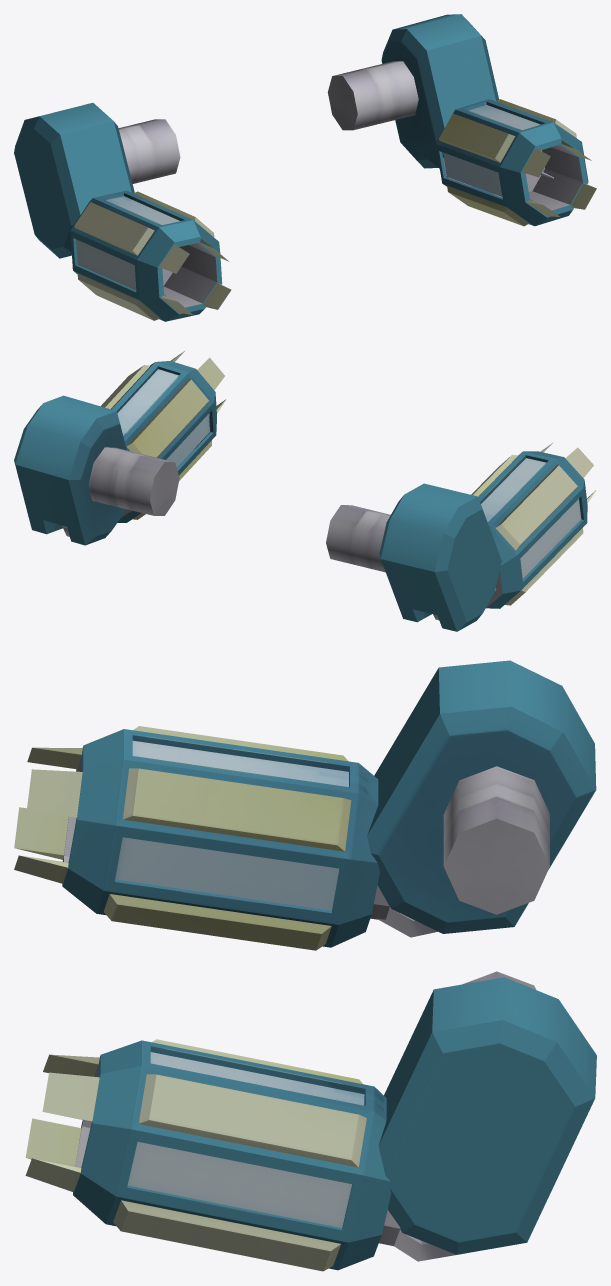
File: player_arm_attack7.obj
3 views of the same model, one above another, from view 1: azimuth 30°, elevation 25°; view 2: azimuth 150°, elevation 25°; view 3: azimuth 270°, elevation 25° (orthographic). The views are drawn at different scales.
Parts seen in each view (by area): view 1: Object009, Object010, Object007, Object008, Object005, Object006; view 2: Object007, Object009, Object008, Object010, Object005, Object006; view 3: Object009, Object010, Object008, Object007, Object006.
Part boxes in pixels (x1,y1,x2,y2): Object009: (70, 190, 231, 321); Object010: (435, 99, 596, 226); Object007: (14, 102, 134, 258); Object008: (381, 14, 498, 168); Object005: (327, 61, 418, 130); Object006: (118, 119, 180, 183); Object007: (379, 483, 501, 631); Object009: (433, 442, 596, 620); Object008: (14, 395, 126, 545); Object010: (62, 350, 226, 536); Object005: (88, 447, 179, 515); Object006: (326, 505, 390, 572); Object009: (14, 726, 437, 950); Object010: (25, 1039, 461, 1271); Object008: (378, 977, 596, 1254); Object007: (367, 660, 596, 933); Object006: (443, 766, 549, 914).
Size of the model in its own units: 176 by 53.85 by 111.
2 materials, 1 textured.
